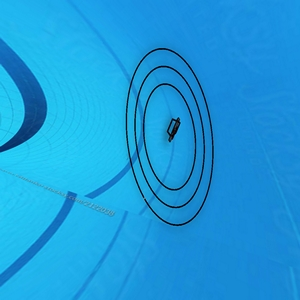circle: (119, 40, 220, 233)
submarine: (165, 113, 183, 141)
